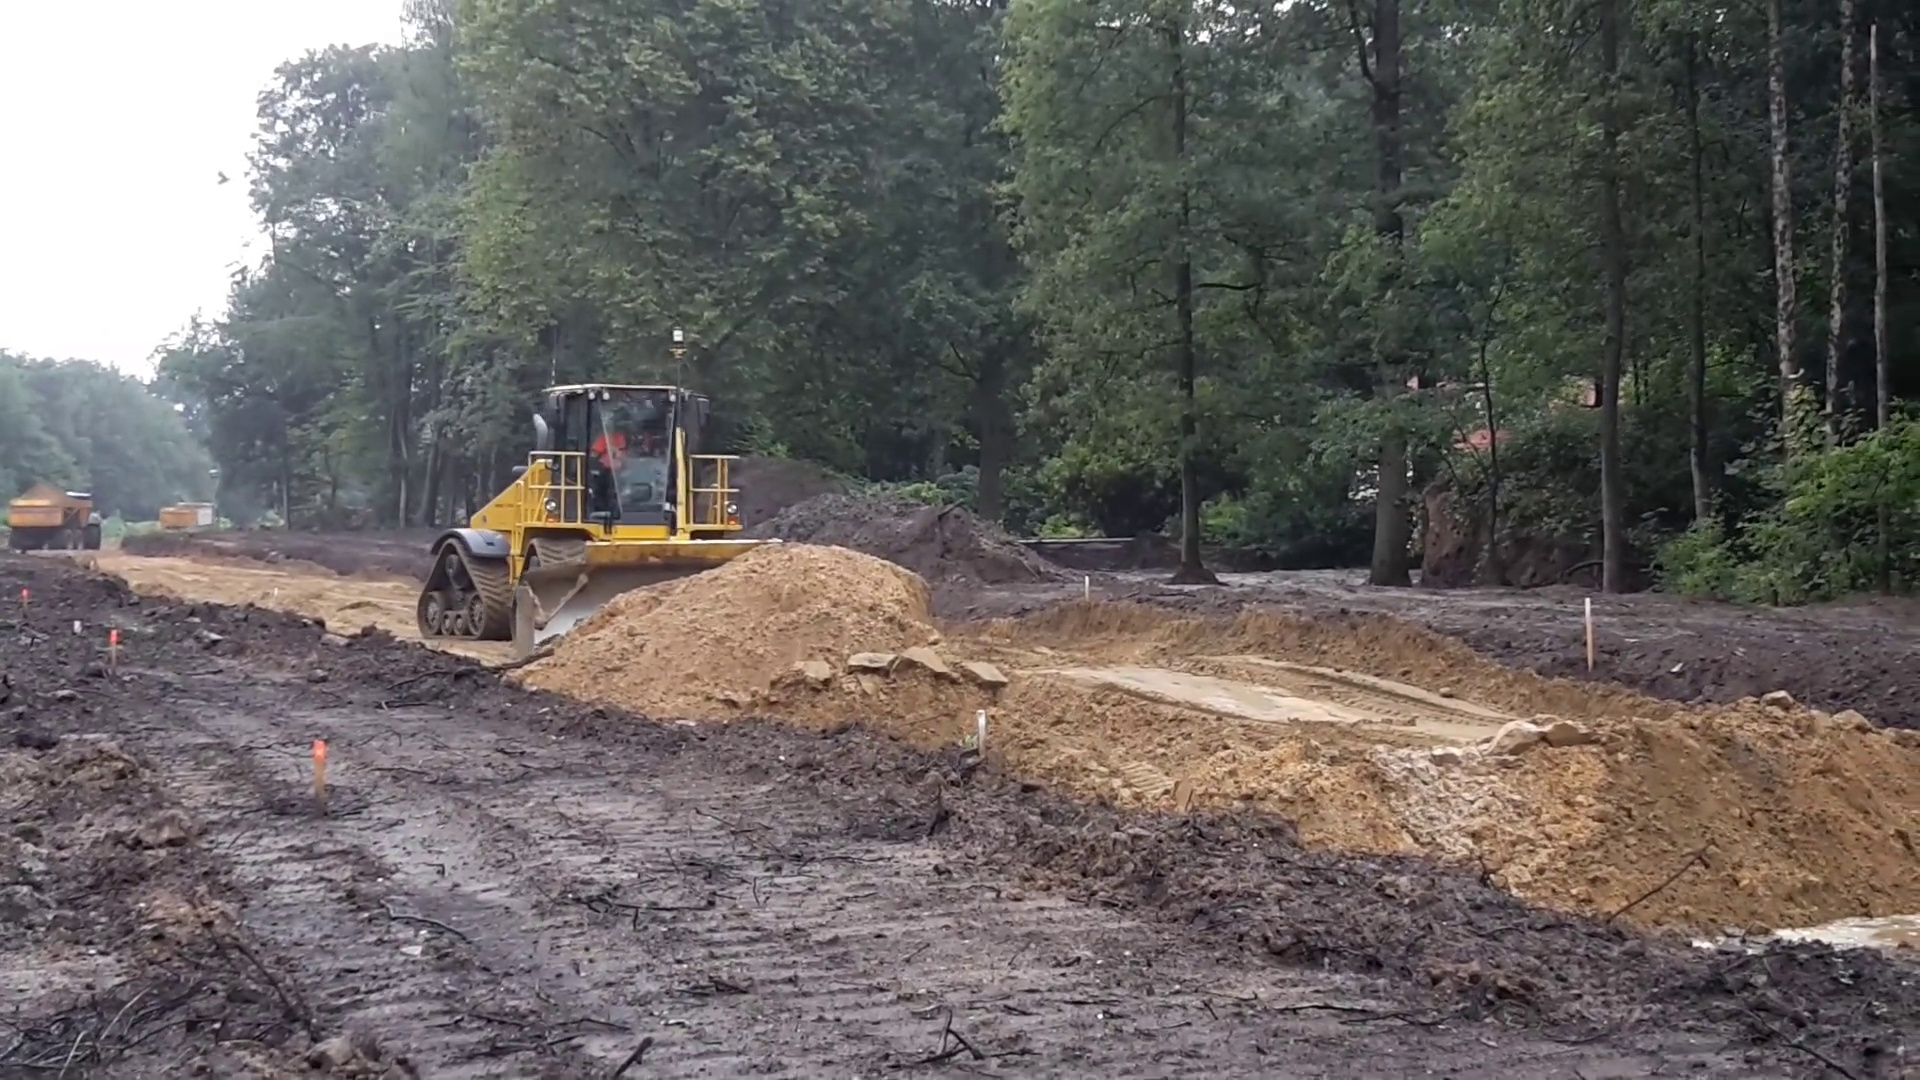bulldozer: (415, 319, 833, 682)
truck: (3, 472, 109, 559)
